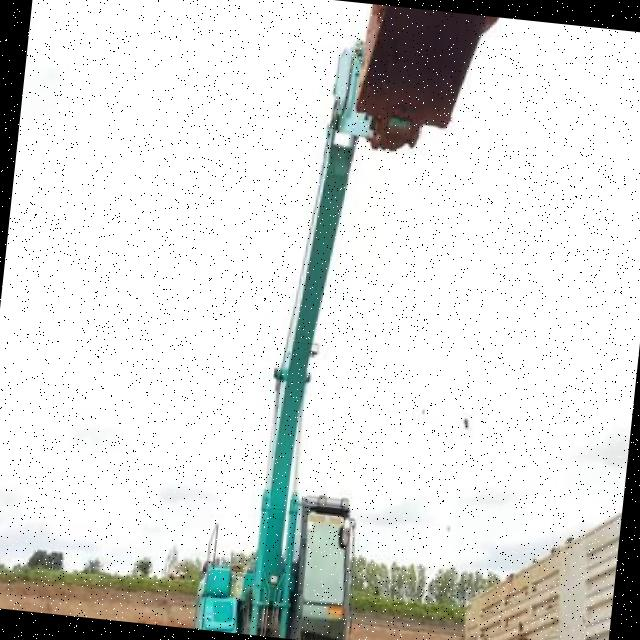Excavator: (188, 0, 500, 640)
